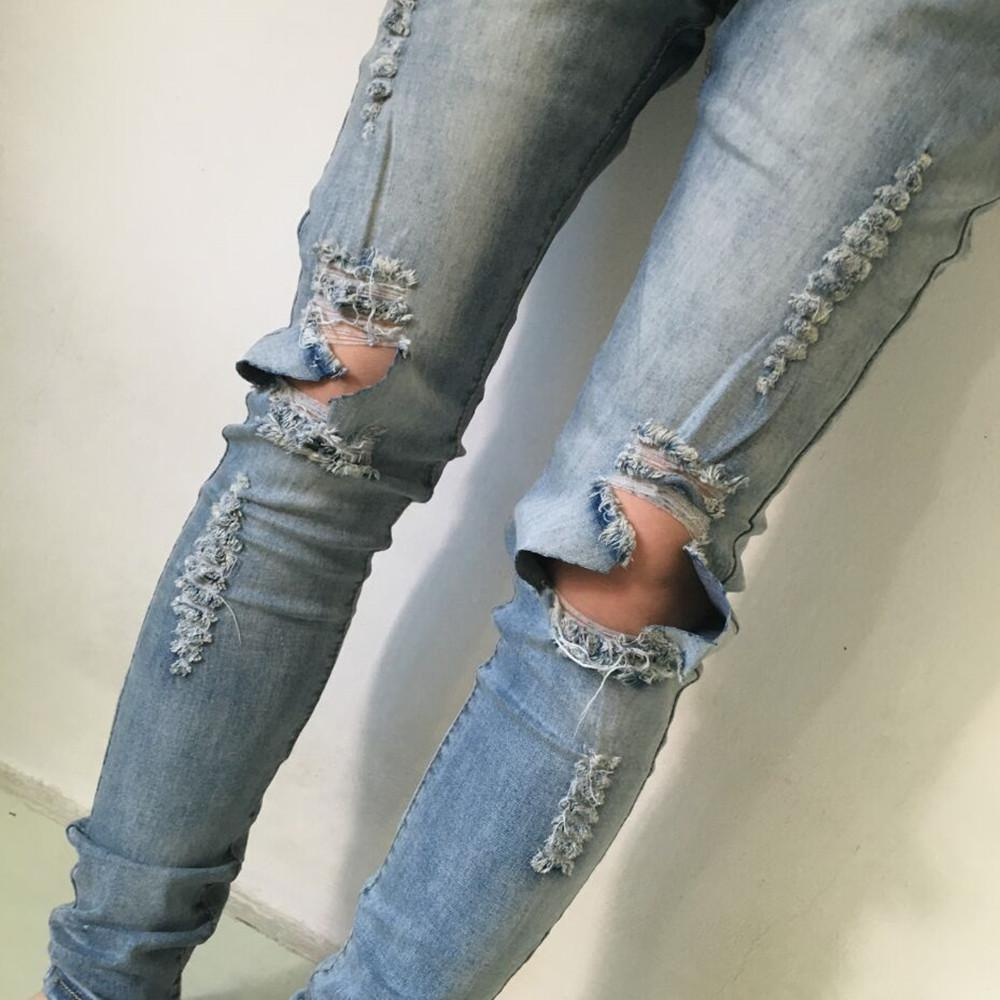jeans: (61, 4, 959, 1000)
